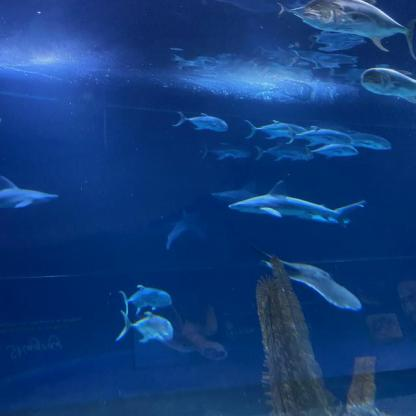fish: (300, 0, 416, 61), (360, 67, 415, 105), (116, 310, 173, 342), (120, 284, 171, 313), (246, 119, 308, 140), (332, 130, 392, 151), (286, 125, 352, 144), (173, 110, 228, 132), (276, 2, 339, 20), (256, 141, 312, 161), (202, 142, 250, 160), (306, 144, 361, 159)
shark: (228, 180, 366, 228), (211, 181, 293, 206), (0, 175, 60, 209), (166, 208, 203, 249)
stingray: (259, 260, 362, 311)
